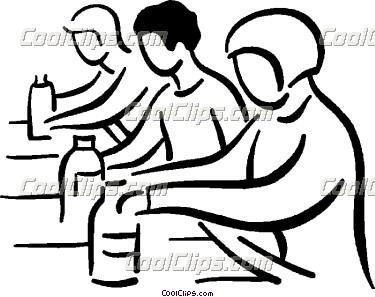bottle: (85, 181, 144, 284), (57, 135, 108, 227), (23, 72, 59, 141)
person: (127, 8, 374, 289), (96, 1, 249, 169), (38, 5, 152, 144)
